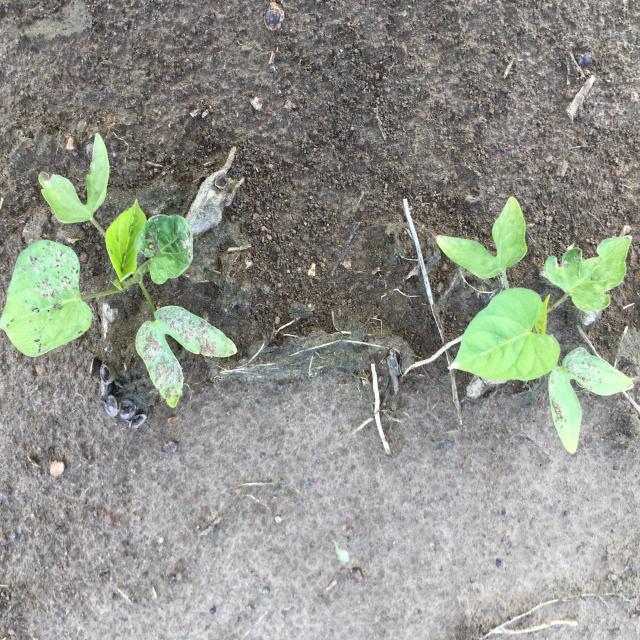MorningGlory: (0, 132, 238, 408), (436, 196, 634, 454)
